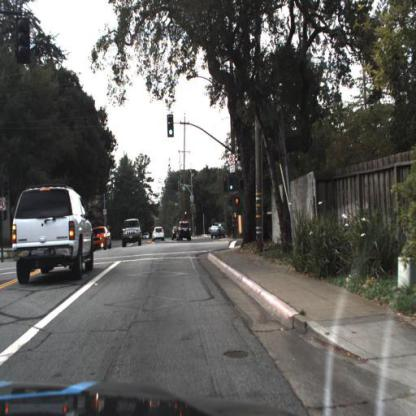car: (12, 185, 95, 283), (122, 218, 142, 249), (94, 226, 113, 252), (177, 220, 193, 242), (212, 222, 227, 242), (153, 227, 165, 243)
trafficLight-Green: (167, 113, 175, 138), (229, 176, 235, 193)
